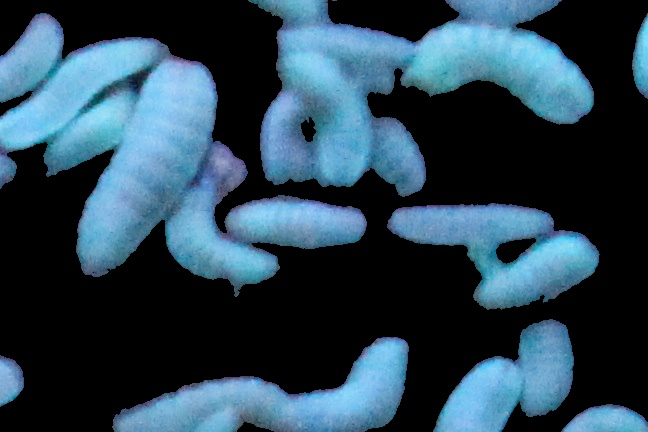larvae: (77, 63, 221, 272), (405, 23, 595, 124), (1, 38, 164, 153), (166, 160, 280, 285), (275, 63, 374, 187), (302, 339, 411, 431), (114, 374, 281, 432), (474, 245, 604, 314), (226, 196, 366, 255), (47, 82, 135, 173), (381, 203, 555, 249), (274, 21, 417, 67), (439, 354, 521, 432), (511, 321, 578, 416), (1, 6, 61, 102), (249, 95, 314, 182), (367, 114, 426, 194), (563, 399, 648, 432), (438, 1, 564, 23)
